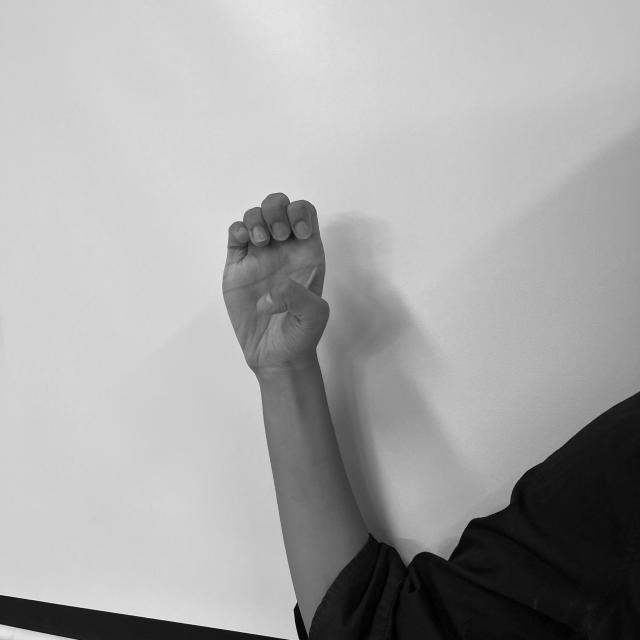Letra E: (217, 188, 335, 372)
